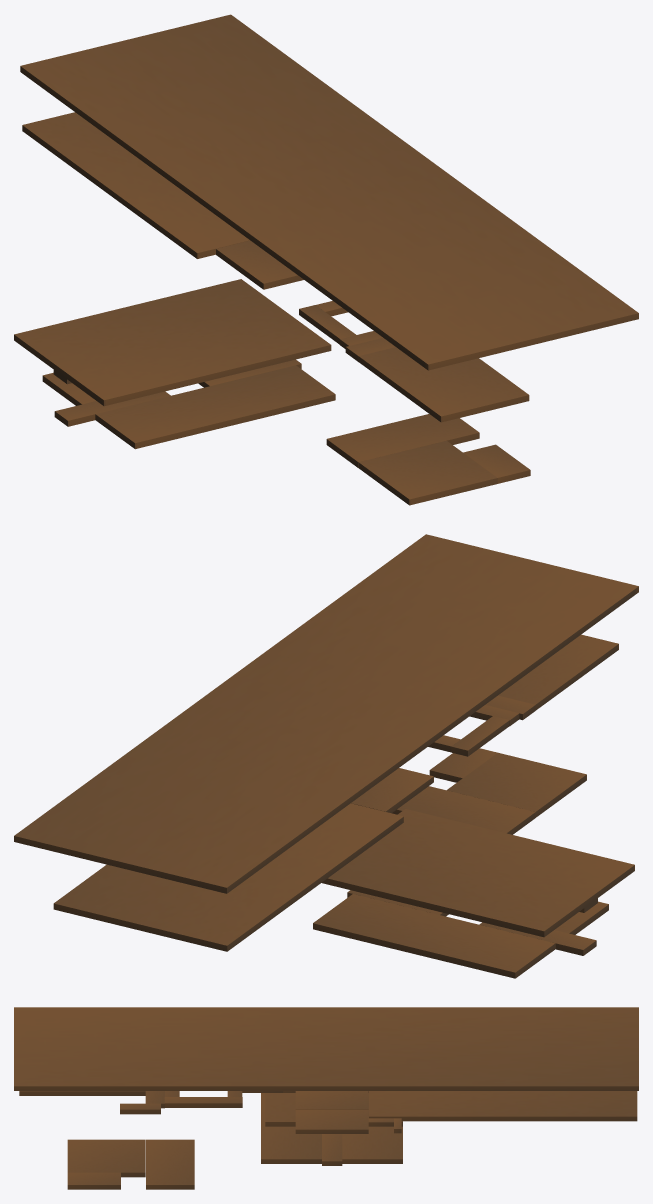
File: S_Suelo.obj
3 renders of one model, top to bottom at view 1: azimuth 30°, elevation 25°; view 2: azimuth 150°, elevation 25°; view 3: azimuth 270°, elevation 25°, orthographic. The views are drawn at different scales.
Parts seen in each view (by area): view 1: S_Techo2, S_Techo, S_Suelo9, S_Suelo4, S_Suelo22, S_Suelo25, S_Suelo23, S_Suelo5, S_Suelo24, S_Suelo1, S_Suelo16, S_Suelo3; view 2: S_Techo2, S_Techo, S_Suelo9, S_Suelo3, S_Suelo25, S_Suelo22, S_Suelo23, S_Suelo5, S_Suelo24, S_Suelo1, S_Suelo16, S_Suelo4; view 3: S_Techo2, S_Suelo9, S_Suelo25, S_Suelo23, S_Suelo4, S_Suelo3, S_Suelo11, S_Suelo6, S_Techo, S_Suelo24, S_Suelo15, S_Suelo2 (+3 smaller).
Boxes of the visible parts, x1,y1,x2,y2 form: S_Techo2: (20, 14, 638, 370); S_Techo: (14, 279, 331, 406); S_Suelo9: (22, 112, 249, 258); S_Suelo4: (95, 365, 335, 449); S_Suelo22: (358, 347, 529, 422); S_Suelo25: (358, 440, 497, 505); S_Suelo23: (326, 414, 479, 467); S_Suelo5: (216, 240, 303, 289); S_Suelo24: (463, 444, 530, 483); S_Suelo1: (54, 391, 170, 426); S_Suelo16: (299, 305, 355, 344); S_Suelo3: (42, 372, 95, 405); S_Techo2: (14, 534, 638, 893); S_Techo: (322, 809, 634, 937); S_Suelo9: (53, 803, 403, 951); S_Suelo3: (313, 894, 555, 978); S_Suelo25: (447, 752, 586, 817); S_Suelo22: (498, 634, 618, 710); S_Suelo23: (392, 786, 535, 834); S_Suelo5: (351, 768, 433, 813); S_Suelo24: (429, 748, 497, 782); S_Suelo1: (479, 922, 596, 955); S_Suelo16: (451, 716, 509, 756); S_Suelo4: (555, 901, 608, 934); S_Techo2: (14, 1007, 638, 1090); S_Suelo9: (369, 1091, 637, 1121); S_Suelo25: (67, 1139, 145, 1177); S_Suelo23: (146, 1139, 194, 1189); S_Suelo4: (261, 1093, 321, 1163); S_Suelo3: (342, 1126, 402, 1163); S_Suelo11: (295, 1109, 368, 1133); S_Suelo6: (295, 1091, 368, 1109); S_Techo: (265, 1093, 402, 1126); S_Suelo24: (67, 1172, 120, 1189); S_Suelo15: (164, 1097, 242, 1107); S_Suelo2: (322, 1134, 342, 1165).
Size of the model in its own units: 67.28 by 29.57 by 128.
